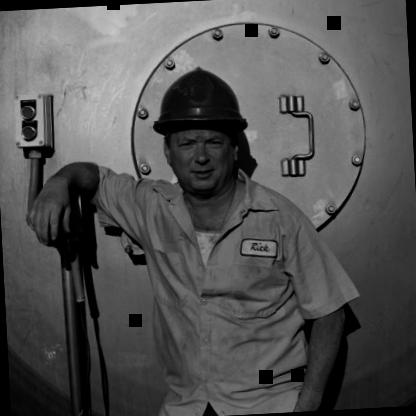helmet: (134, 47, 262, 217)
